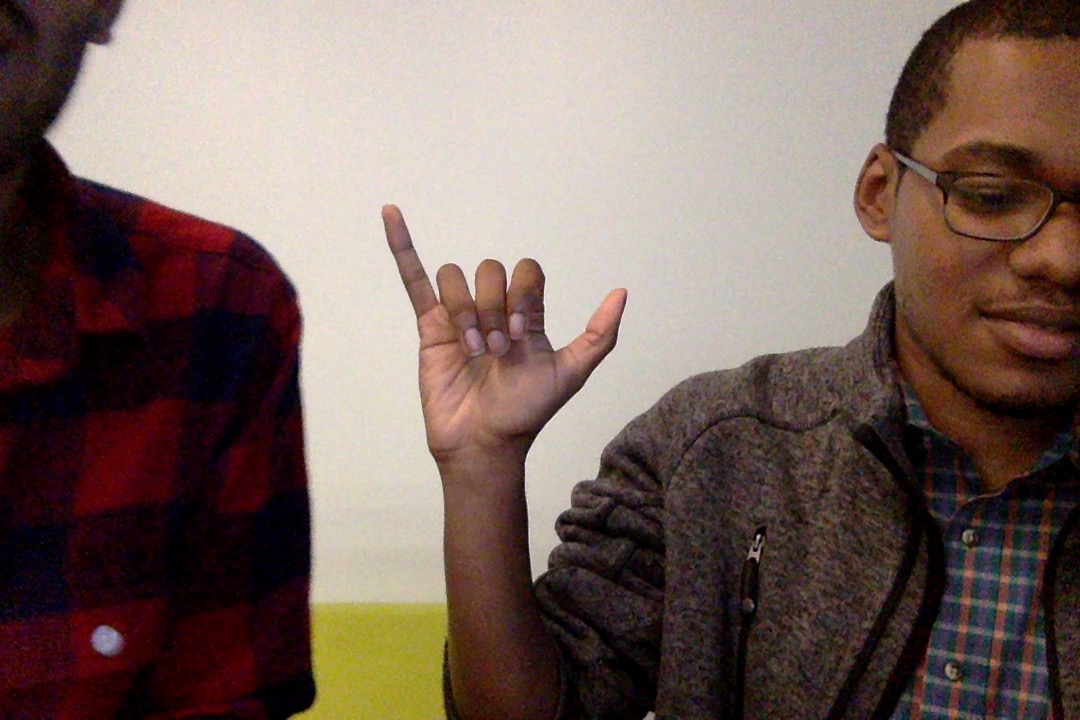y: (375, 196, 637, 494)
